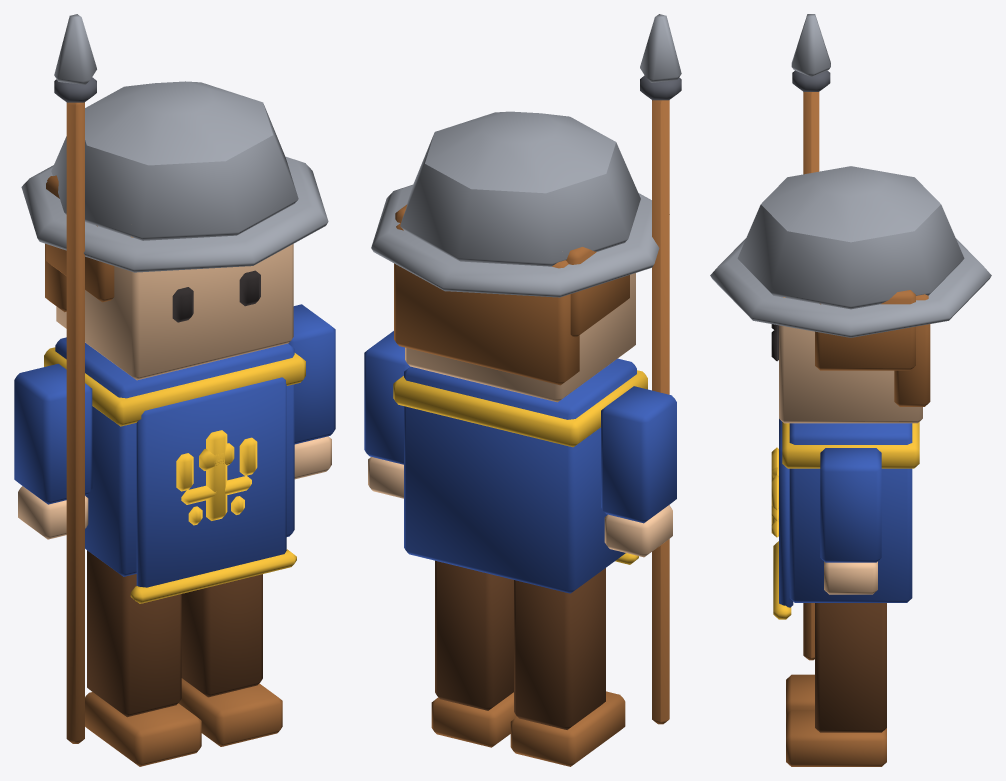
File: H_MedTownGuard.fbx
3 views of the same model, side by side, from view 1: azimuth 30°, elevation 25°; view 2: azimuth 150°, elevation 25°; view 3: azimuth 270°, elevation 25° (orthographic). The views are drawn at different scales.
Visible parts, largest first — view 1: M_TownGuard; view 2: M_TownGuard; view 3: M_TownGuard.
Boxes of the visible parts, x1=… form: M_TownGuard: x1=14, y1=14, x2=335, y2=766; M_TownGuard: x1=364, y1=14, x2=681, y2=766; M_TownGuard: x1=710, y1=14, x2=991, y2=766.
Bounding box in the file's own units: 0.83 × 2.05 × 0.7807.
Materials: 1 (1 with a texture image).
